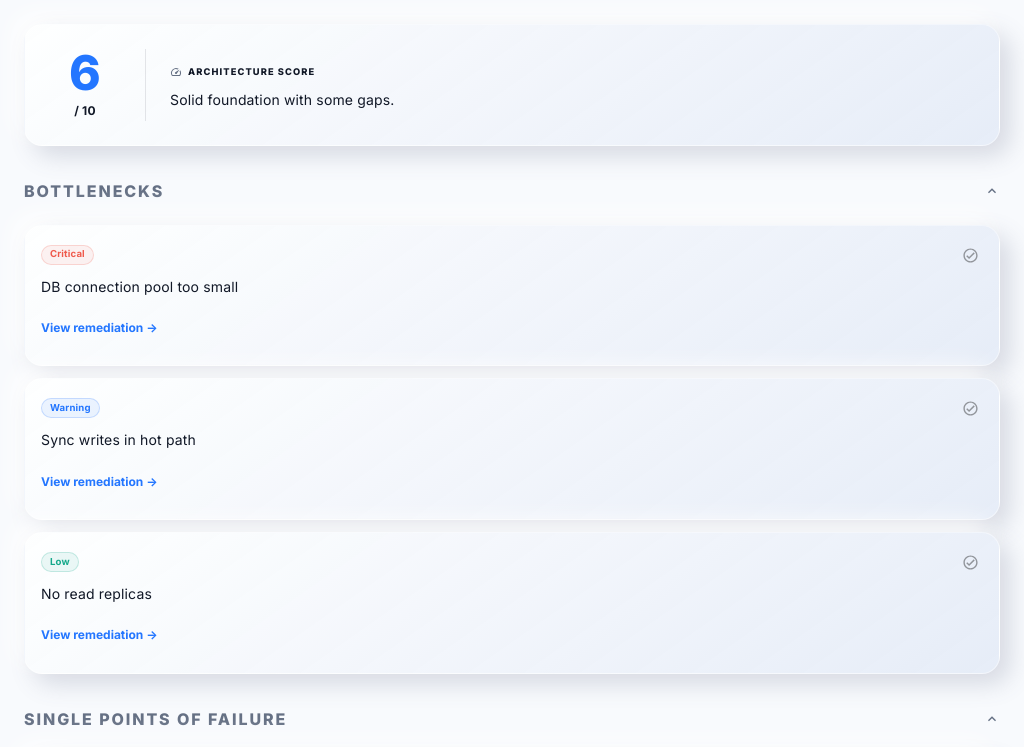
Test: Collapsible sections — collapse/expand › re-expands a section when its header is clicked again
Click the button "Bottlenecks". click: (94, 191)
box: [24, 181, 1000, 201]
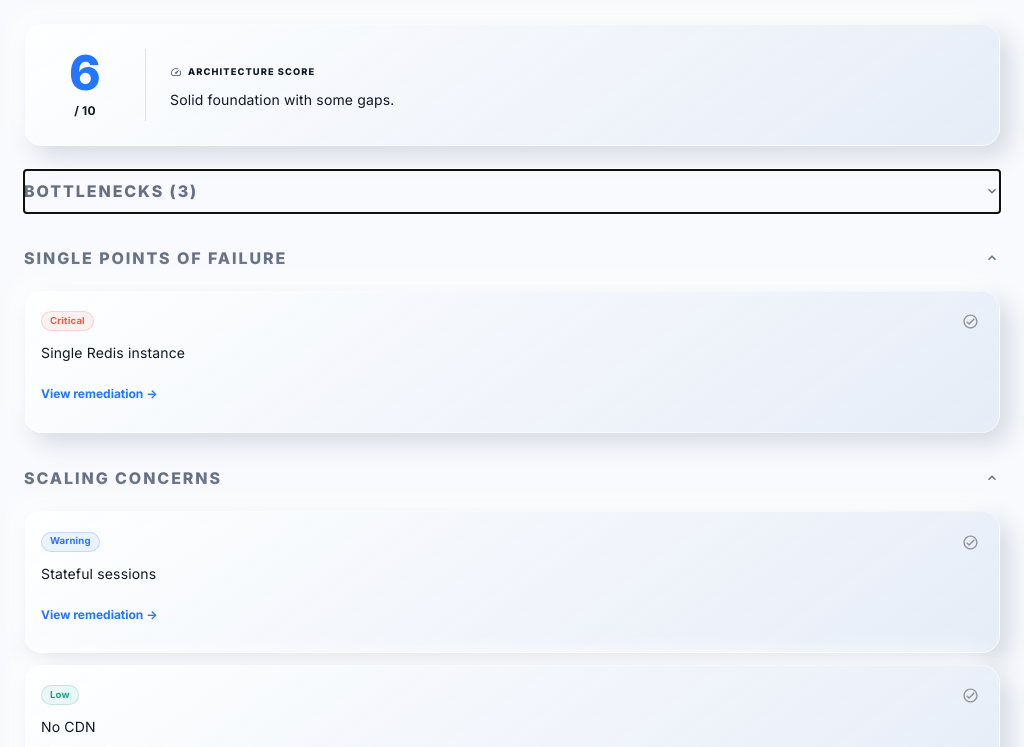
Click the button "Bottlenecks (3)". click: (94, 191)
box: [24, 181, 1000, 201]
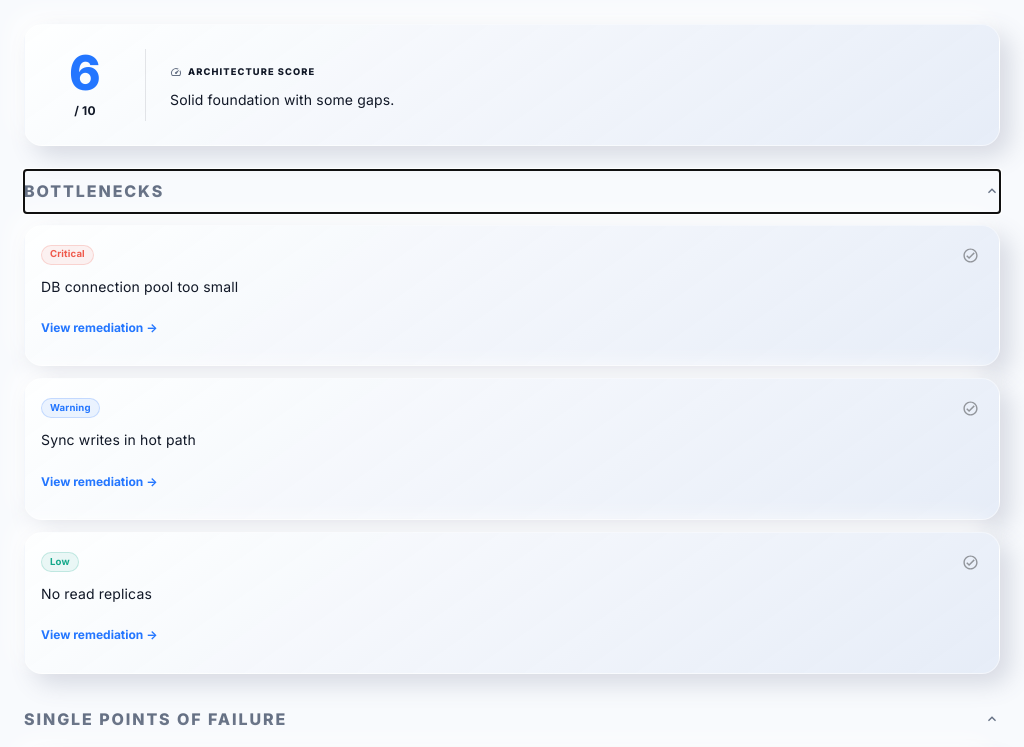
Check: the text "DB connection pool too small" is shown, box [41, 278, 238, 295]
